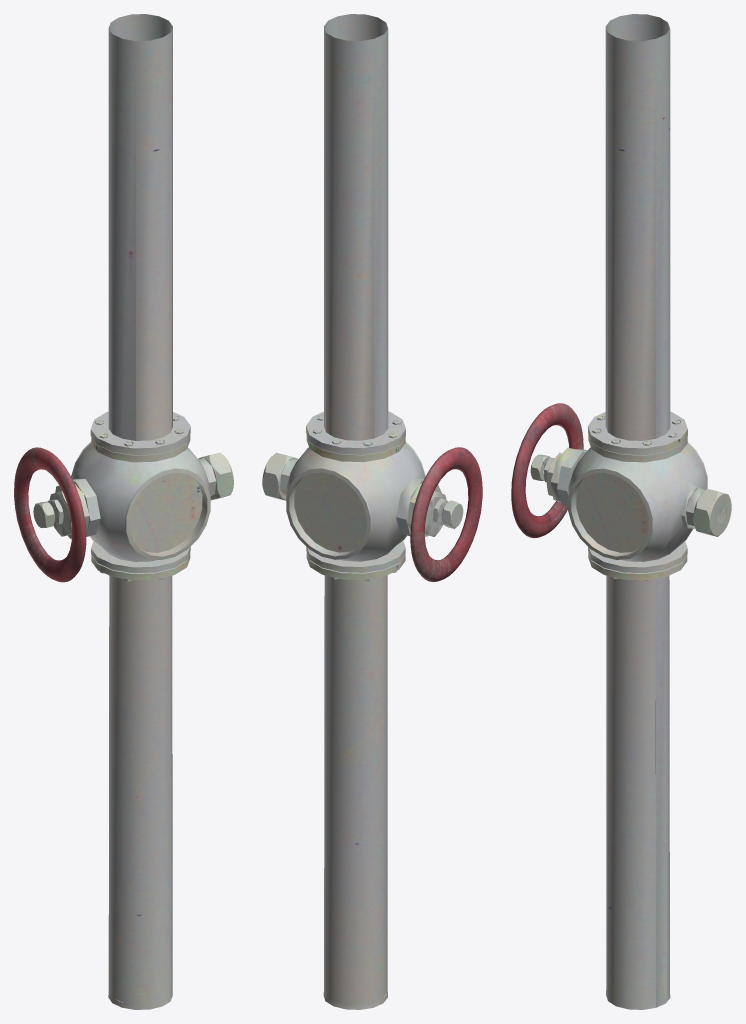
The model's file is valve.obj.
The picture shows the model from 3 angles, left to right: view 1: azimuth 30°, elevation 25°; view 2: azimuth 150°, elevation 25°; view 3: azimuth 330°, elevation 25°; orthographic projection.
Visible parts, largest first — view 1: Roundcube.001_Roundcube_Material.001, Roundcube.001_Roundcube_Material.002; view 2: Roundcube.001_Roundcube_Material.001, Roundcube.001_Roundcube_Material.002; view 3: Roundcube.001_Roundcube_Material.001, Roundcube.001_Roundcube_Material.002.
Boxes of the visible parts, left/top/right/bottom form: Roundcube.001_Roundcube_Material.001: left=33, top=14, right=233, bottom=1009; Roundcube.001_Roundcube_Material.002: left=14, top=447, right=86, bottom=582; Roundcube.001_Roundcube_Material.001: left=262, top=14, right=463, bottom=1009; Roundcube.001_Roundcube_Material.002: left=410, top=447, right=482, bottom=582; Roundcube.001_Roundcube_Material.001: left=530, top=14, right=731, bottom=1009; Roundcube.001_Roundcube_Material.002: left=511, top=403, right=583, bottom=538.
Bounding box in the file's own units: 1.01 × 5.09 × 0.6577.
Materials: 2 (2 with a texture image).
